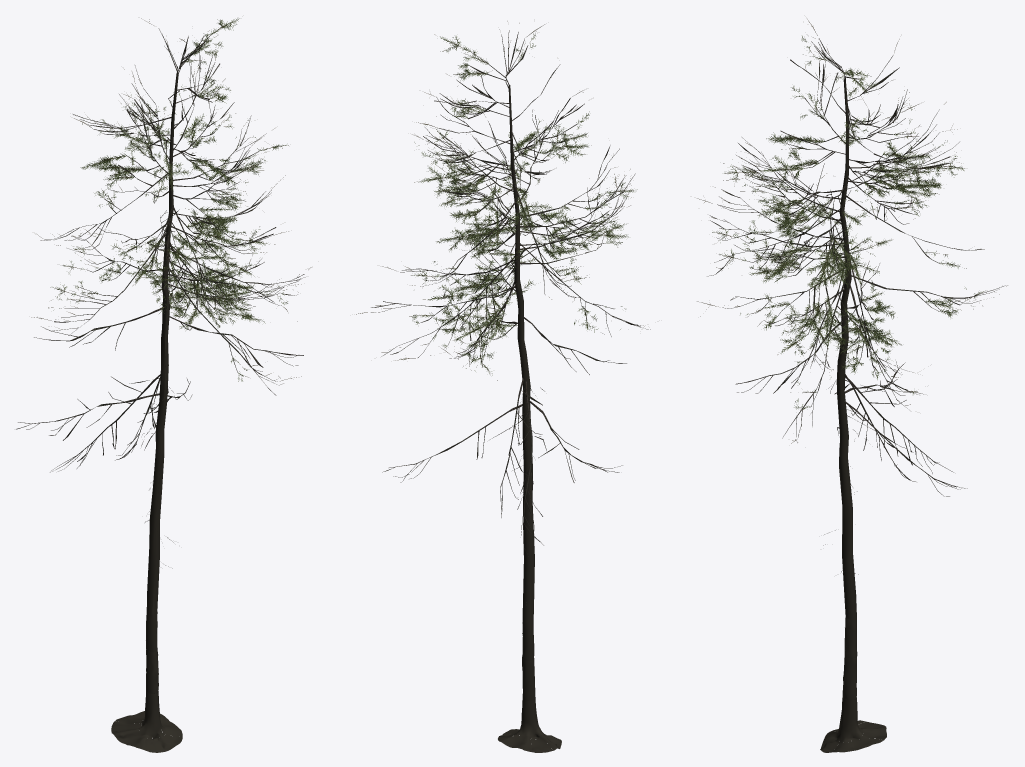
The model's file is fir_tree.glb.
The picture shows the model from 3 angles, left to right: view 1: azimuth 30°, elevation 25°; view 2: azimuth 150°, elevation 25°; view 3: azimuth 270°, elevation 25°; orthographic projection. The views are drawn at different scales.
Parts seen in each view (by area): view 1: fir_tree_01_c_LOD0; view 2: fir_tree_01_c_LOD0; view 3: fir_tree_01_c_LOD0.
Part boxes in pixels (left/top/right/bottom): fir_tree_01_c_LOD0: left=16, top=18, right=311, bottom=752; fir_tree_01_c_LOD0: left=356, top=21, right=650, bottom=752; fir_tree_01_c_LOD0: left=697, top=19, right=1007, bottom=752.
Size of the model in its own units: 5.22 by 12.46 by 4.9.
Materials: 4 (4 with a texture image).
